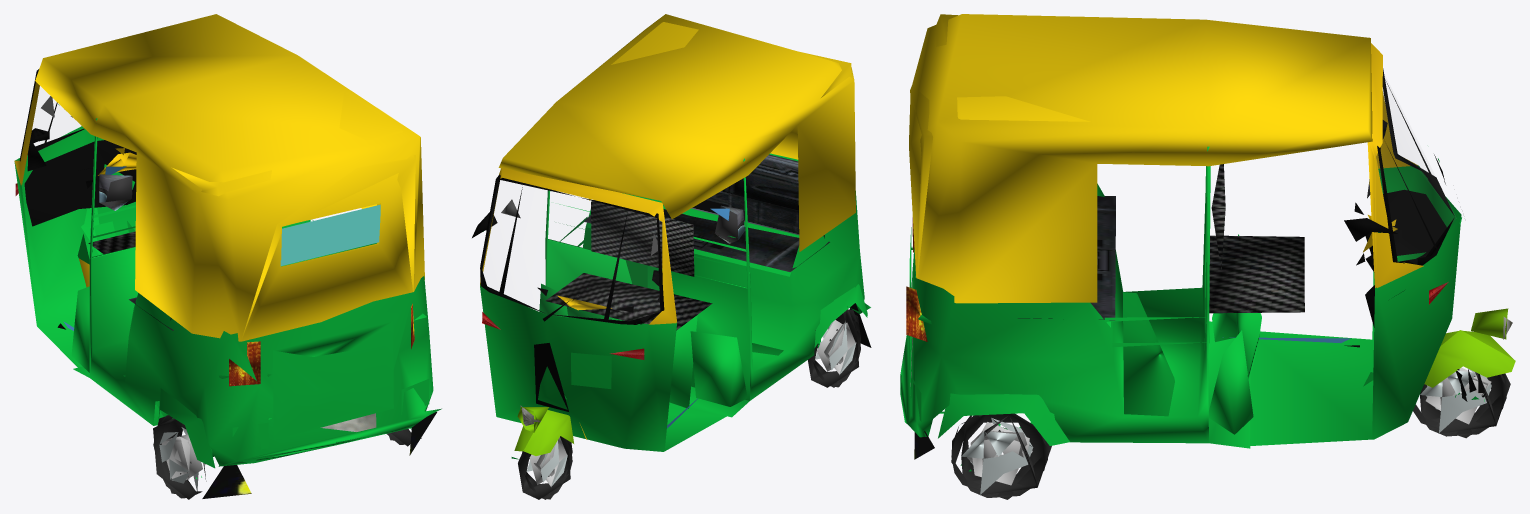
Rendered from Rixa.FBX.
3 renders of one model, left to right at view 1: azimuth 30°, elevation 25°; view 2: azimuth 150°, elevation 25°; view 3: azimuth 270°, elevation 25°, orthographic. The views are drawn at different scales.
Parts seen in each view (by area): view 1: boot_ok; view 2: boot_ok; view 3: boot_ok.
Boxes of the visible parts, <box> form: boot_ok: <box>14,14,441,499</box>; boot_ok: <box>472,14,871,499</box>; boot_ok: <box>900,14,1515,499</box>.
Size of the model in its own units: 4.57 by 5.92 by 8.82.
21 materials, 8 textured.
